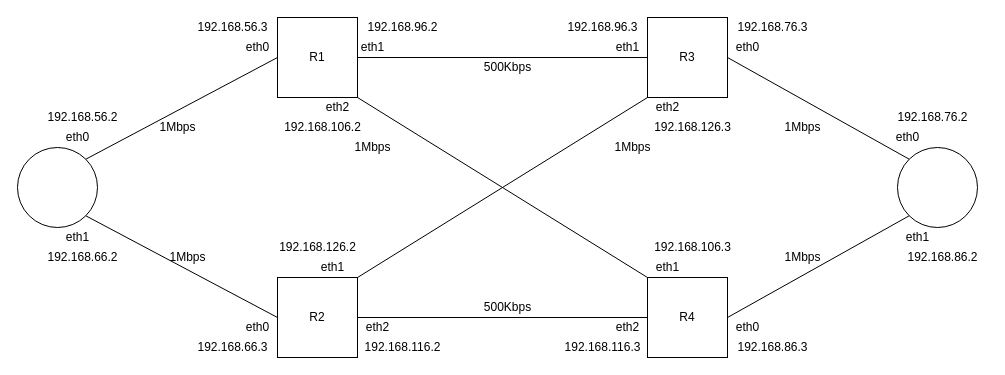
Image size: 1005x375. Some labels were removed from this diagram. Each missing label, with the centre of its shape:
"HostA" belongs at (x=57, y=187).
"HostB" belongs at (x=937, y=187).
